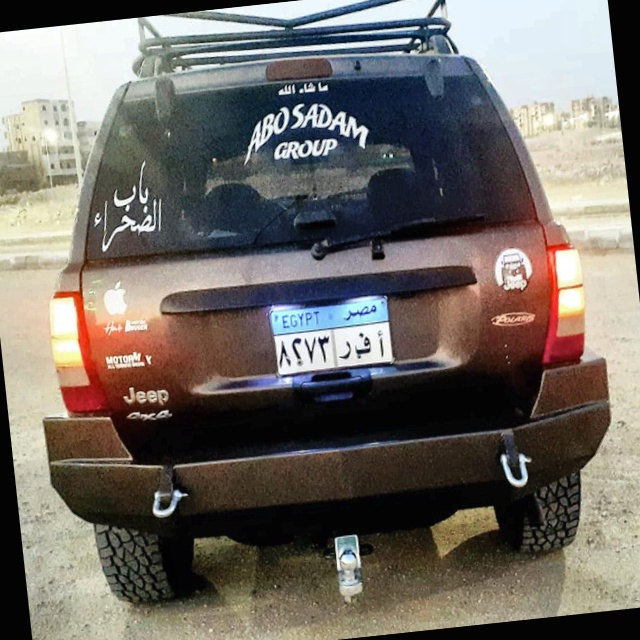License Plate: (266, 293, 397, 380)
